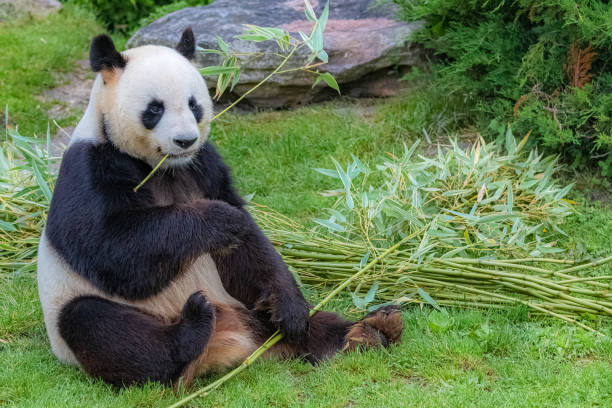panda: (67, 14, 246, 186)
